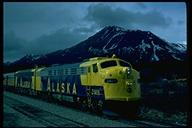cloud: (90, 3, 175, 23)
mountain: (17, 23, 182, 56)
sky: (8, 5, 78, 40)
train: (5, 51, 146, 119)
